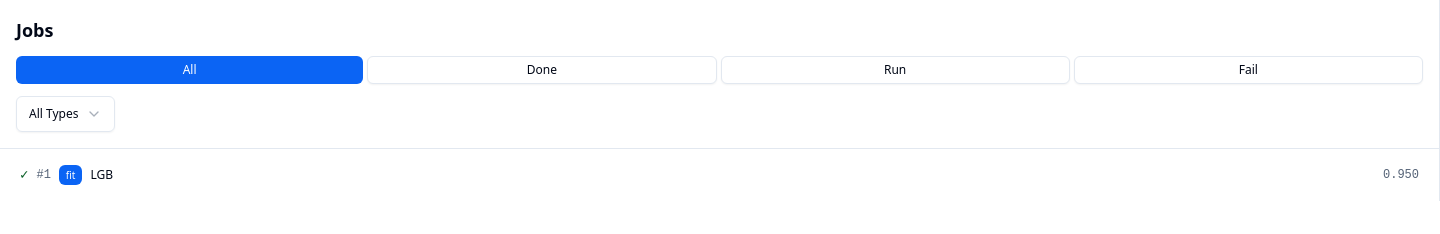
Test: JobList › shows 'No jobs match' when filter removes all jobs
Click "Fail" filter — no failed jobs exist
Click the button "Fail": (1248, 70) top-left (1074, 56), bottom-right (1423, 84)
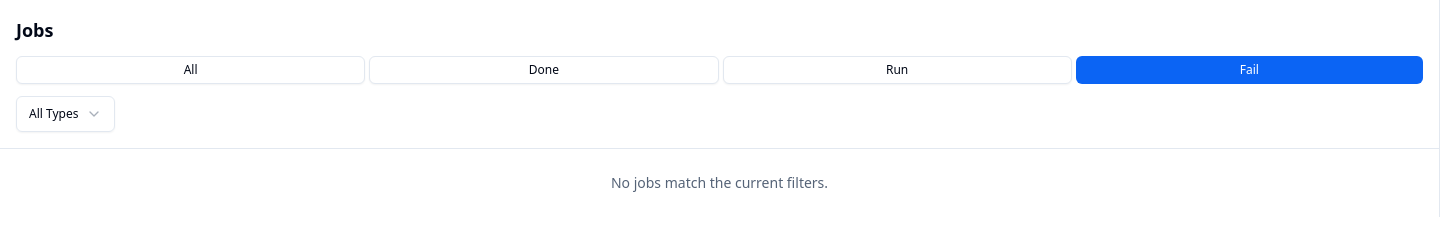
Check: the text "No jobs match the current filters." is shown, box top-left (611, 173), bottom-right (828, 192)
